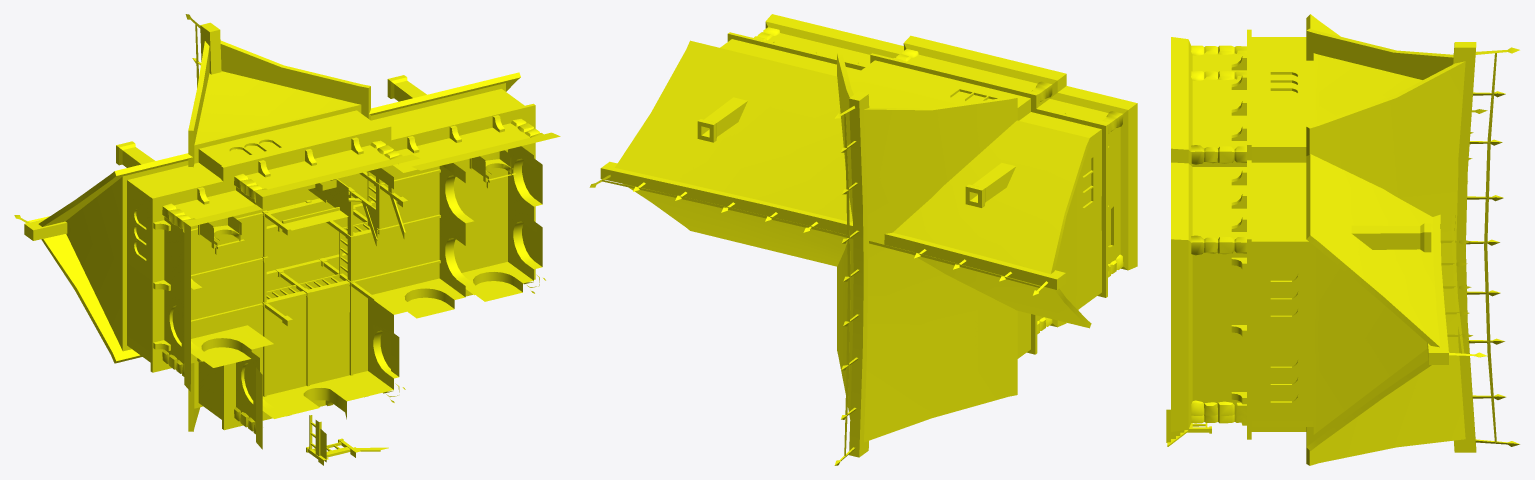
The model's file is tavern.glb.
3 renders of one model, left to right at view 1: azimuth 30°, elevation 25°; view 2: azimuth 150°, elevation 25°; view 3: azimuth 270°, elevation 25°, orthographic. The views are drawn at different scales.
Visible parts, largest first — view 1: Tavern_LOD0; view 2: Tavern_LOD0; view 3: Tavern_LOD0.
Boxes of the visible parts, box(x1,y1,x2,y2) form: Tavern_LOD0: box(14, 14, 560, 465); Tavern_LOD0: box(589, 14, 1137, 465); Tavern_LOD0: box(1166, 14, 1519, 465).
Size of what is drawn, in the model's own units: 31.67 by 23.67 by 18.76.
Materials: 2 (2 with a texture image).
